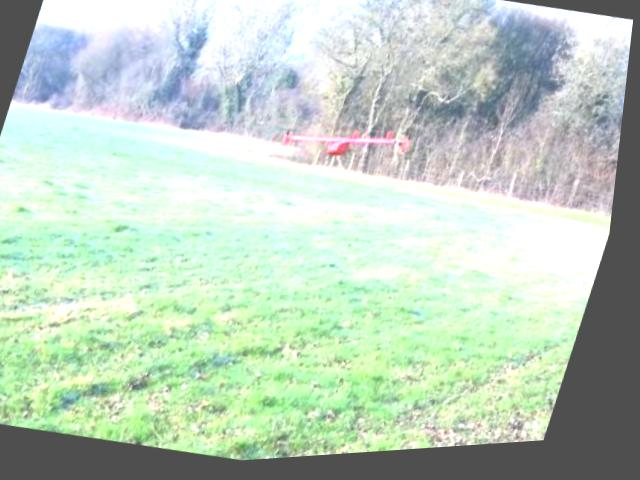uav: (288, 107, 408, 185)
